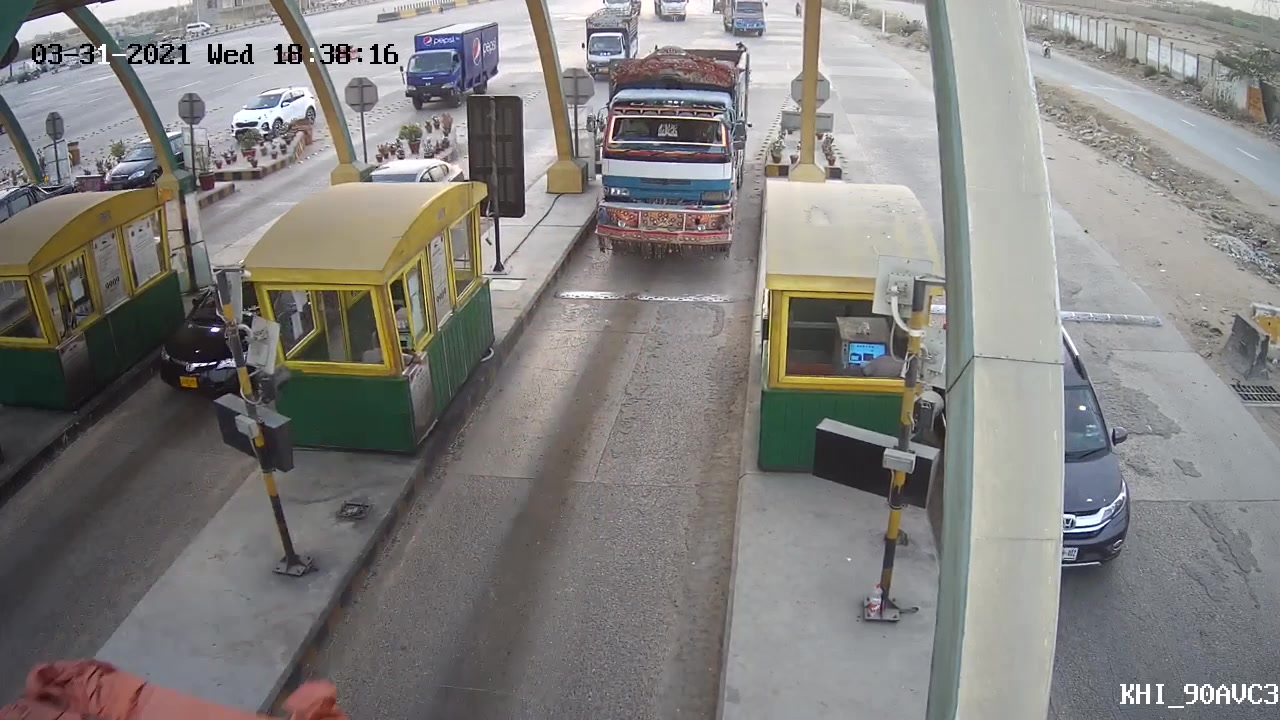F5: (574, 37, 758, 266)
